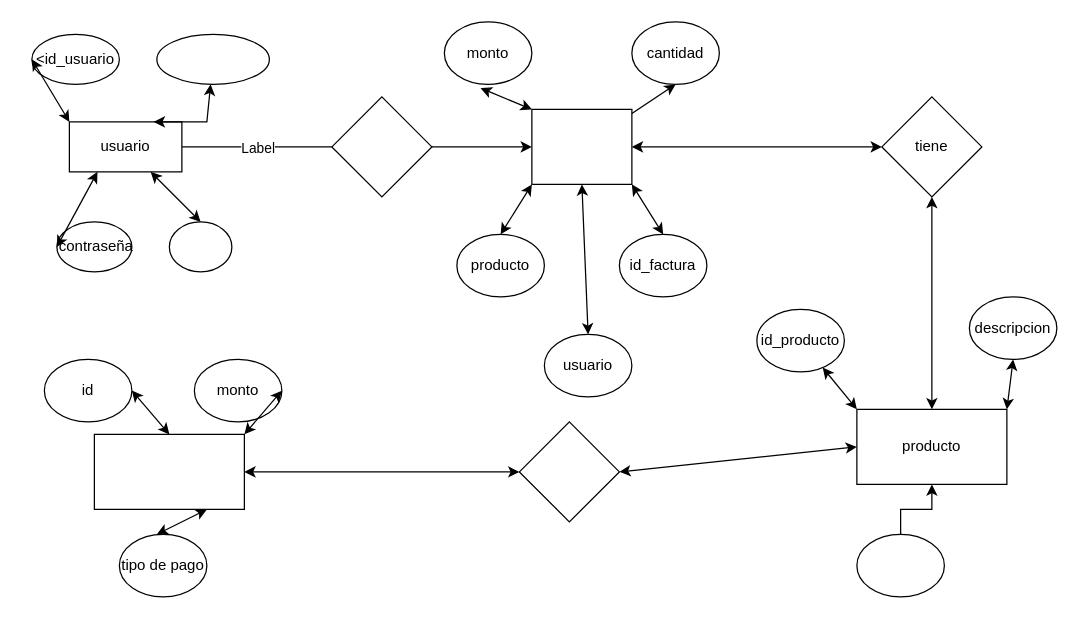
Some shapes in this 1079 by 619 pixel diagram are drawn without their labels. The shapes that lost their labels are listed below. From the top down, each one's box as (x1, y1, x2, y2) in pixels, then its label:
(156, 33, 269, 84): nombre_usuario
(331, 96, 432, 197): pide
(531, 108, 632, 184): pedido
(168, 221, 232, 272): direccion
(93, 433, 244, 509): factura
(518, 421, 619, 522): produce
(856, 533, 944, 597): proveedor
